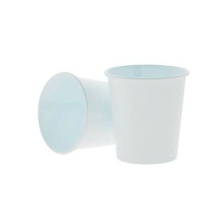paper_cup: (98, 56, 194, 169), (31, 66, 139, 158)
